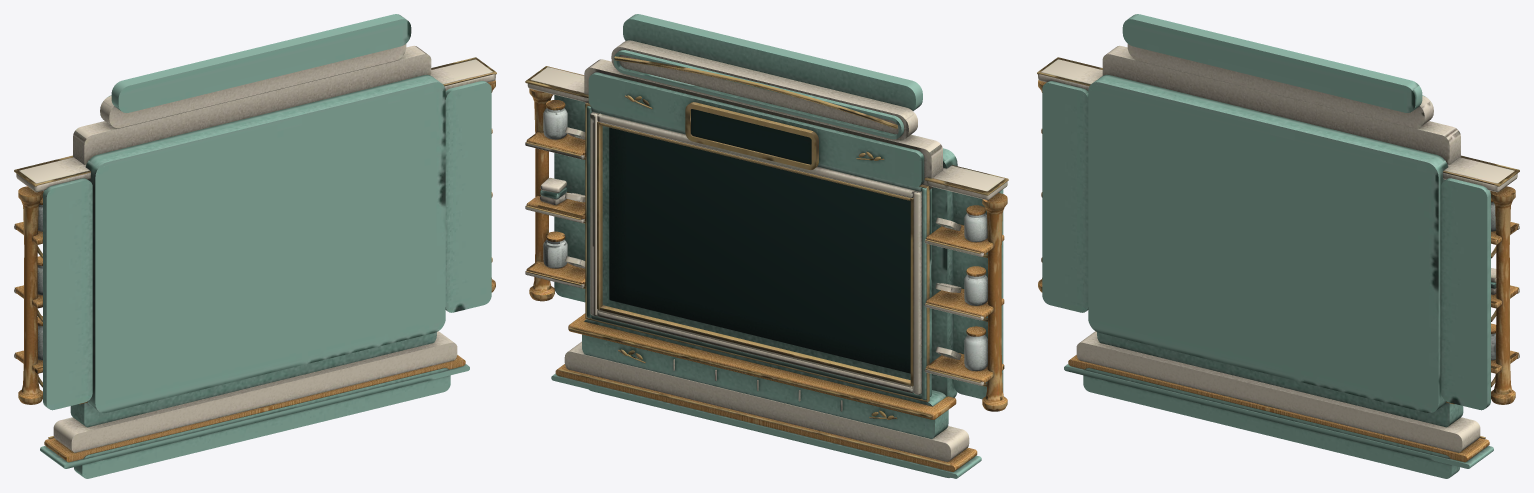
3 renders of one model, left to right at view 1: azimuth 30°, elevation 25°; view 2: azimuth 150°, elevation 25°; view 3: azimuth 330°, elevation 25°, orthographic.
Visible parts, largest first — view 1: Soft_mint_enamel, Warm_ivory_ceramic, Honey_oak, Champagne_brass; view 2: Even_deep_green, Soft_mint_enamel, Warm_ivory_ceramic, Honey_oak, Champagne_brass, Workshop_glass; view 3: Soft_mint_enamel, Warm_ivory_ceramic, Honey_oak, Champagne_brass.
Part boxes in pixels (box(x1,y1,x2,y2)): Soft_mint_enamel: box(40, 14, 491, 478); Warm_ivory_ceramic: box(14, 44, 495, 452); Honey_oak: box(15, 80, 495, 462); Champagne_brass: box(14, 57, 496, 438); Even_deep_green: box(609, 109, 910, 373); Soft_mint_enamel: box(540, 14, 1003, 478); Warm_ivory_ceramic: box(525, 40, 1007, 461); Honey_oak: box(526, 88, 1007, 471); Champagne_brass: box(525, 56, 1008, 465); Workshop_glass: box(543, 108, 987, 371); Soft_mint_enamel: box(1042, 14, 1496, 478); Warm_ivory_ceramic: box(1038, 44, 1519, 452); Honey_oak: box(1038, 80, 1518, 462); Champagne_brass: box(1037, 57, 1519, 438).
Bounding box in the file's own units: 12.48 × 9.6 × 1.47.
6 materials, 6 textured.
